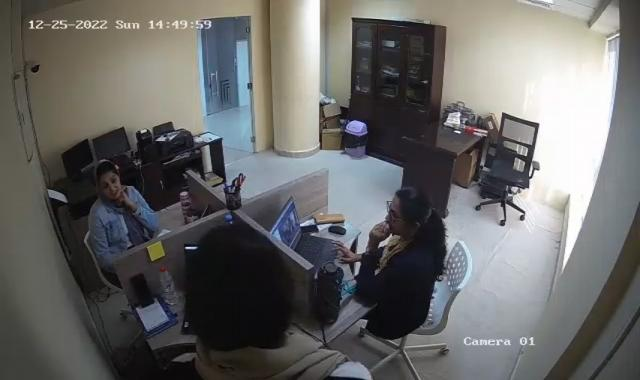no_hairnet: (185, 230, 290, 344), (384, 186, 432, 237), (92, 161, 124, 201)
